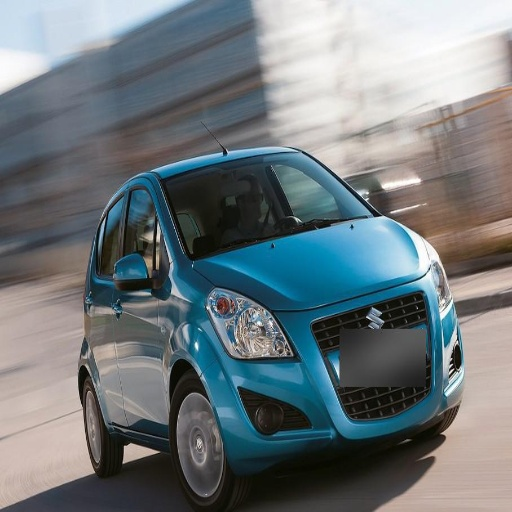front_bumper: (202, 267, 463, 473)
front_right_door: (113, 178, 166, 427)
front_right_light: (206, 288, 295, 357)
